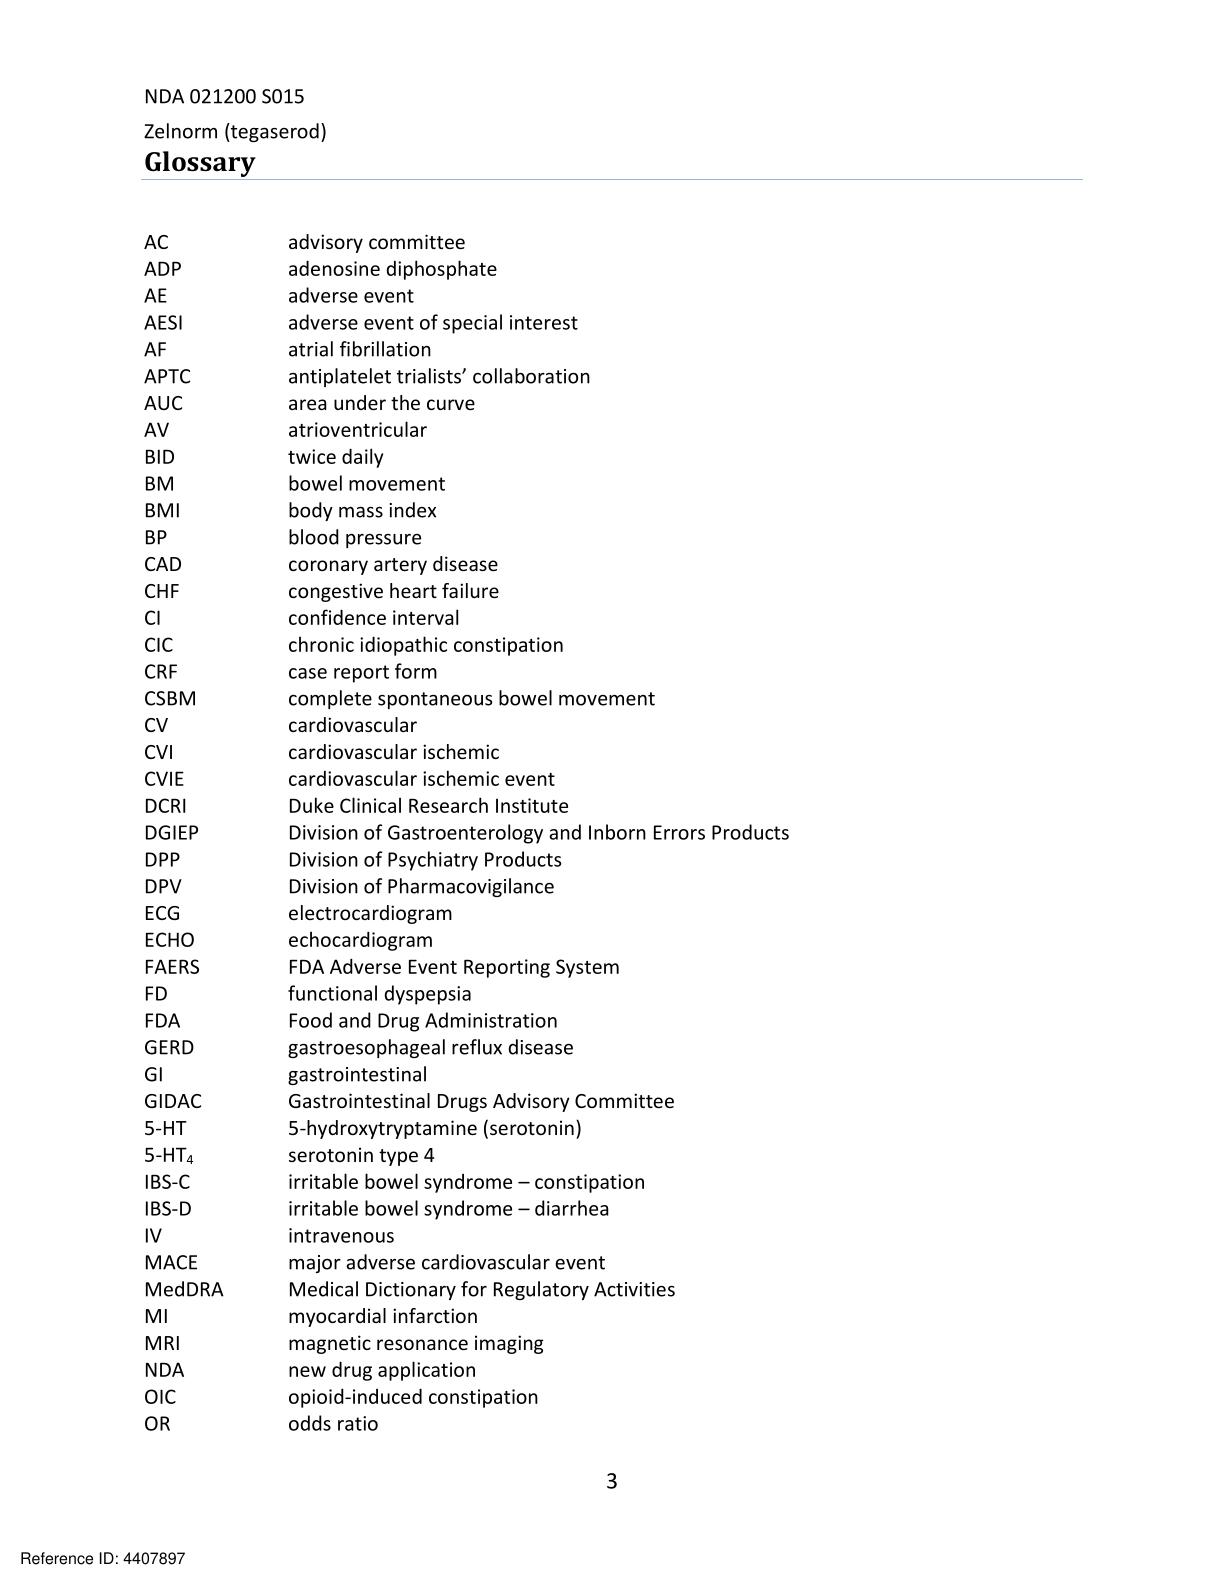nolines: (139, 228, 792, 1434)
